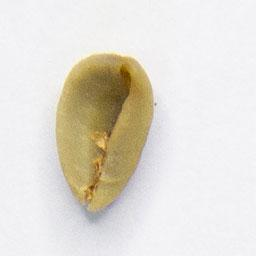longberry: (51, 49, 159, 217)
